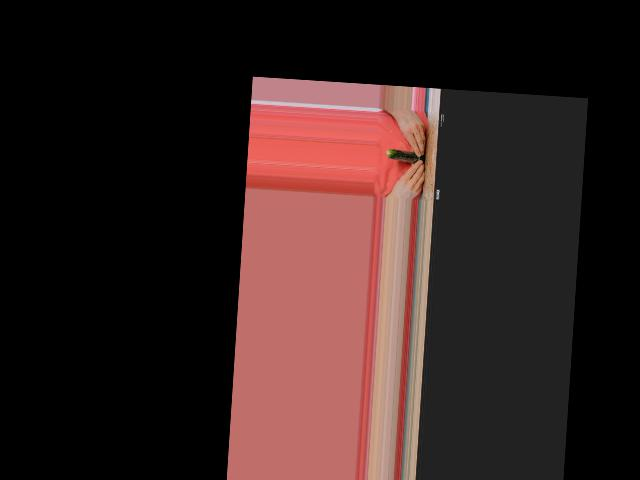cucumber: (386, 148, 425, 163)
